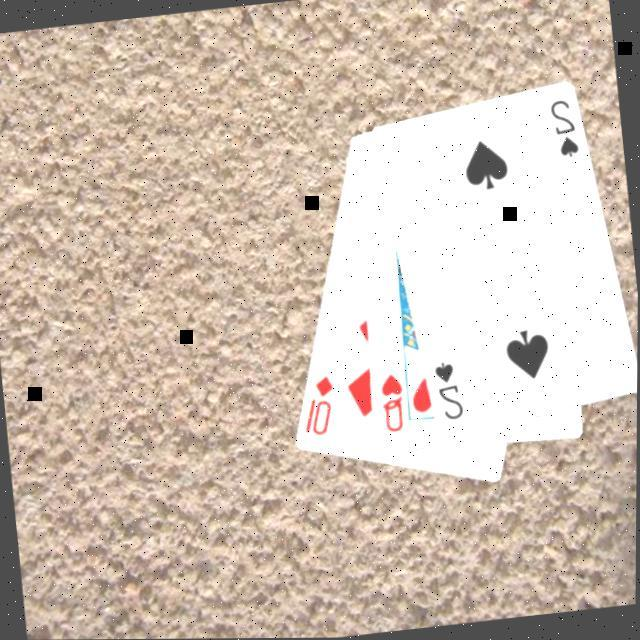10D: (298, 372, 342, 440)
2S: (431, 357, 470, 426), (546, 95, 585, 164)
QH: (377, 371, 412, 438)
